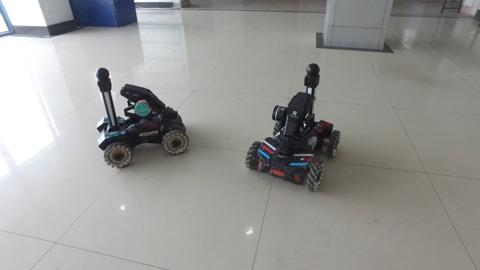chariot: (238, 60, 354, 198), (89, 66, 193, 173)
